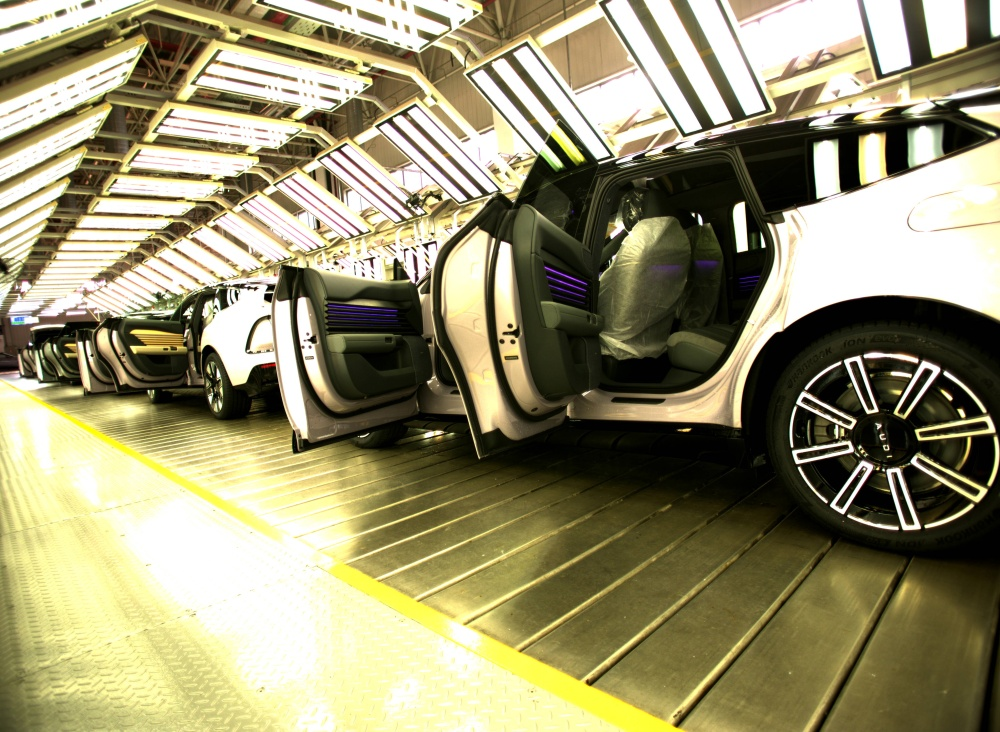armrest_color: (538, 300, 607, 335), (324, 333, 407, 353)
panel_color: (320, 295, 407, 330), (541, 258, 591, 312)
